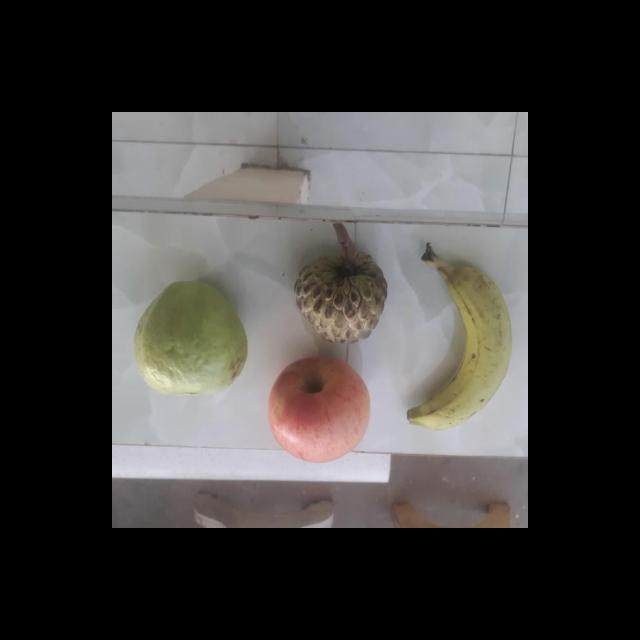Sakya fruit: (288, 240, 387, 344)
apple: (262, 358, 373, 462)
banana: (406, 256, 510, 430)
guava: (128, 282, 244, 393)
